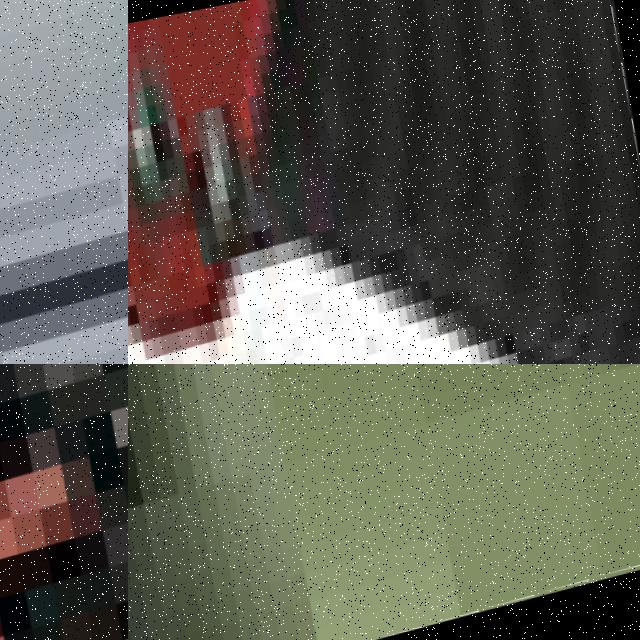drone: (128, 0, 640, 364), (128, 364, 640, 640), (0, 0, 128, 364), (0, 364, 128, 640)
